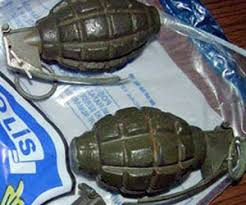e1: (68, 105, 246, 204), (3, 1, 160, 100)
